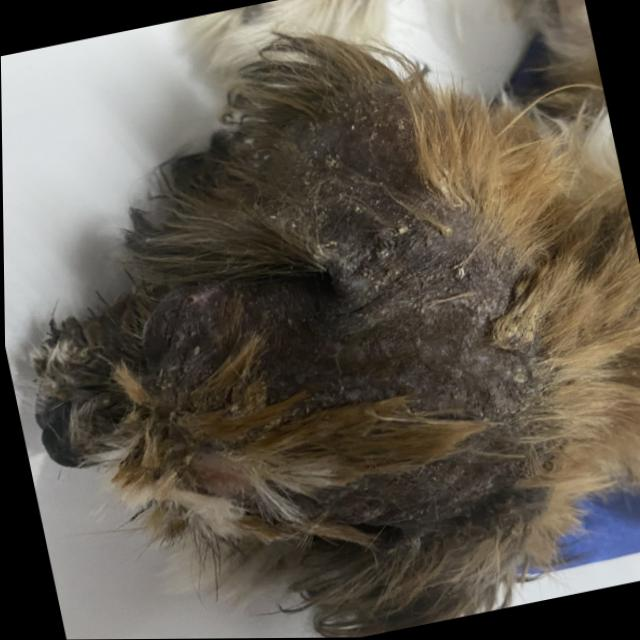demodicosis: (118, 75, 546, 444), (279, 381, 554, 573)
